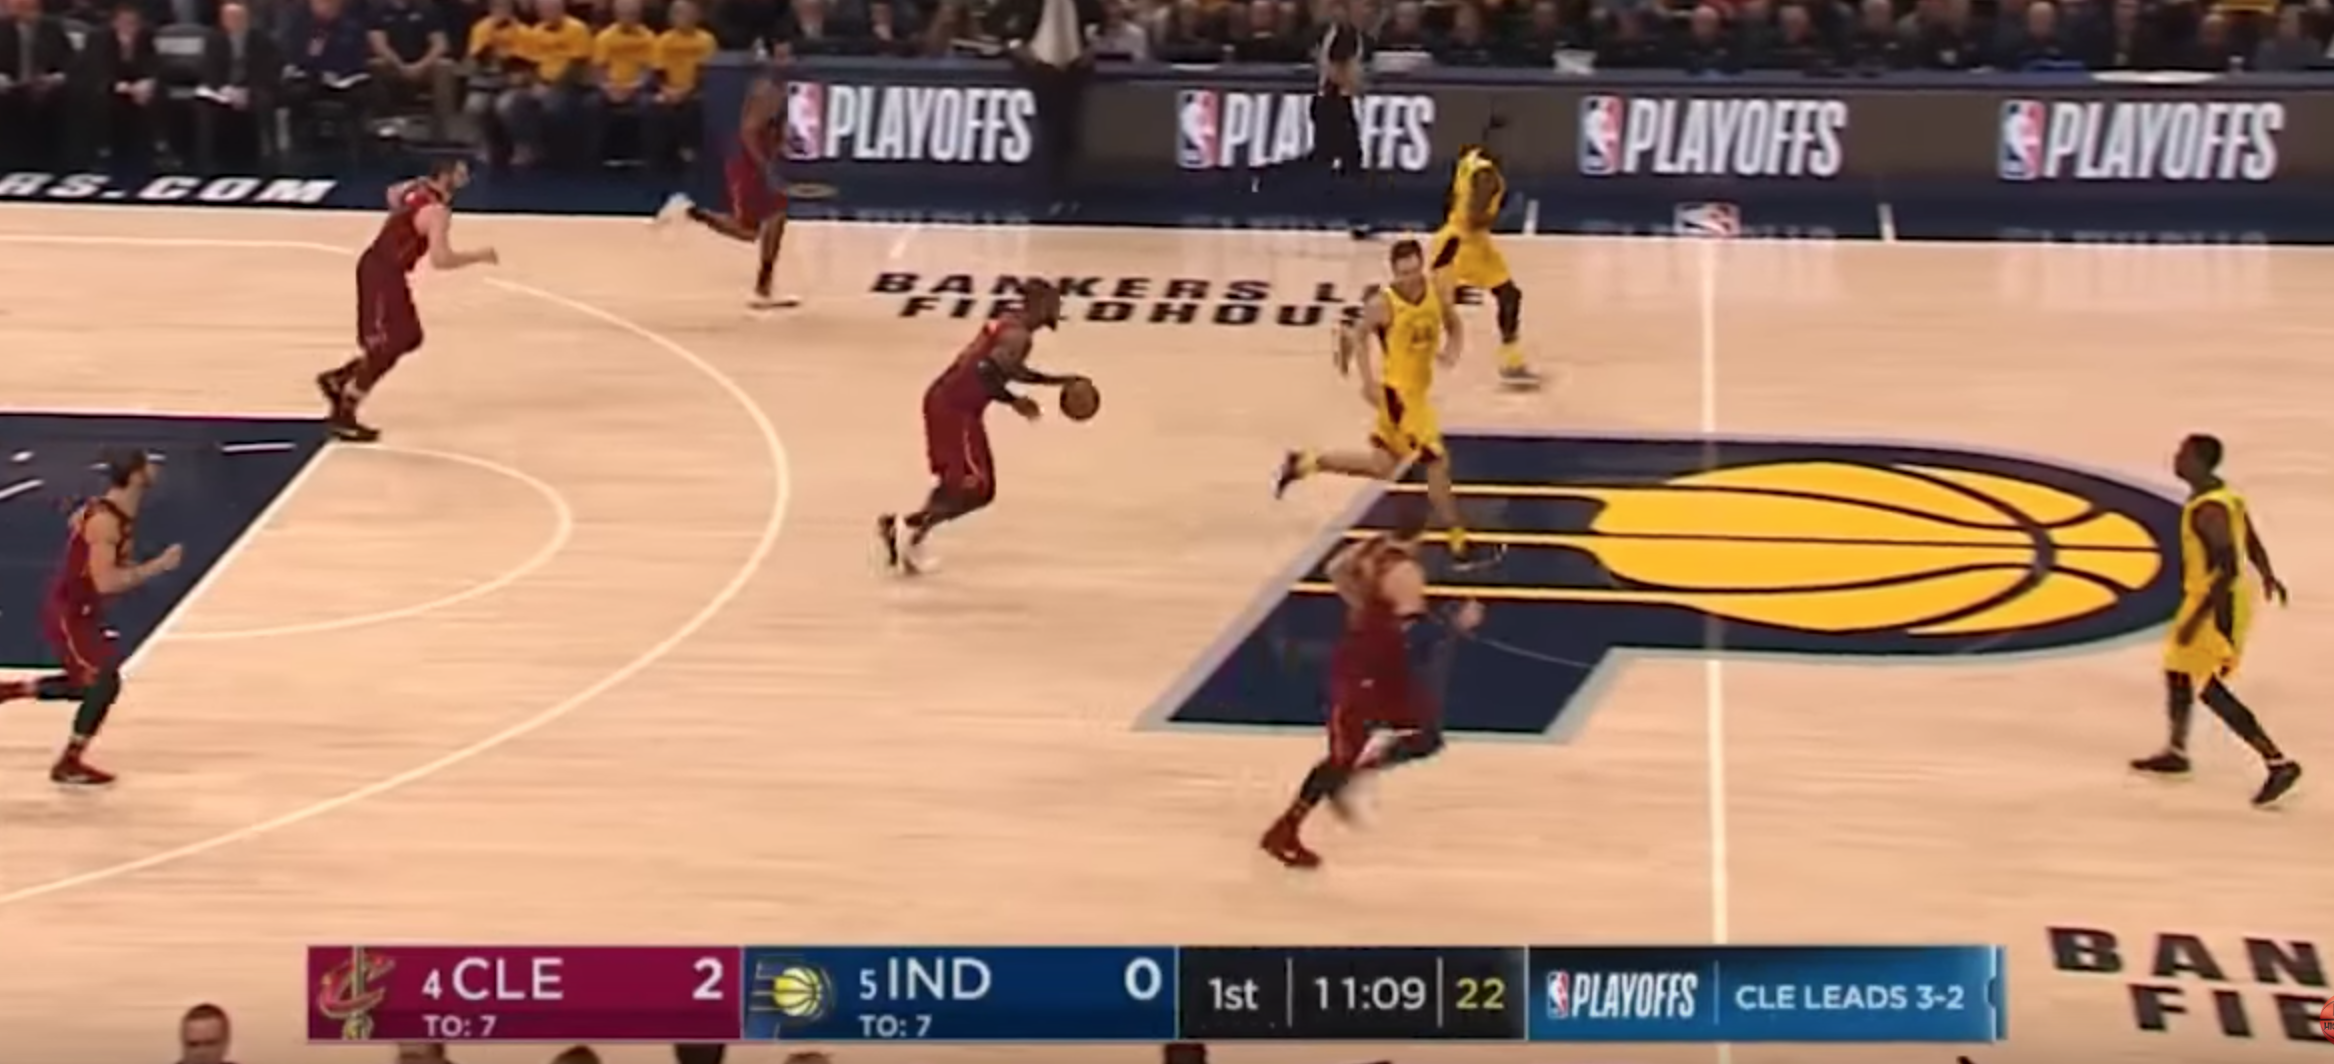basketball: (1057, 370, 1115, 427)
basketball player: (1251, 506, 1495, 897), (2123, 419, 2305, 827), (865, 253, 1055, 591), (32, 451, 191, 820), (312, 163, 497, 450), (652, 40, 829, 326), (1325, 235, 1462, 493), (1419, 116, 1542, 261)
